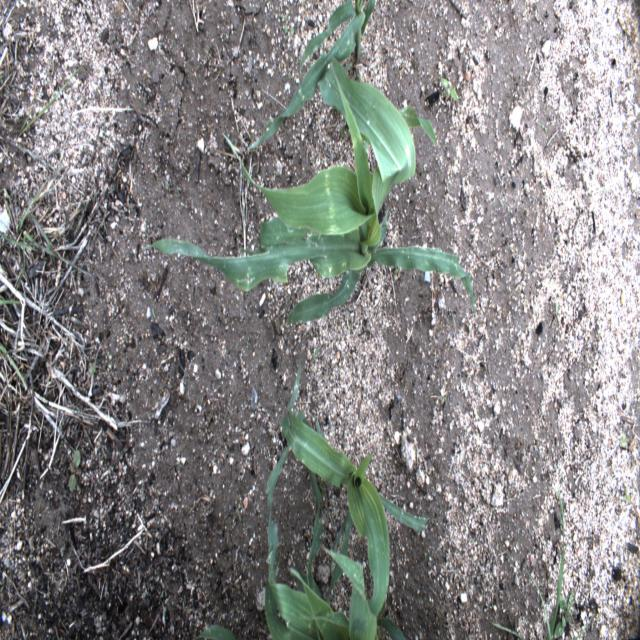crop: (139, 54, 476, 326), (281, 357, 428, 617), (264, 445, 406, 639), (247, 0, 375, 151), (192, 624, 238, 640)
weed: (0, 173, 95, 301), (525, 454, 564, 639), (18, 62, 86, 137), (0, 342, 27, 389), (553, 590, 575, 640), (572, 613, 594, 639), (491, 623, 524, 639), (69, 449, 81, 491), (440, 77, 459, 101), (0, 293, 20, 305), (622, 486, 630, 502), (620, 431, 626, 450), (283, 25, 294, 35), (341, 114, 345, 140), (312, 346, 318, 360), (541, 125, 548, 134), (1, 576, 4, 594)
